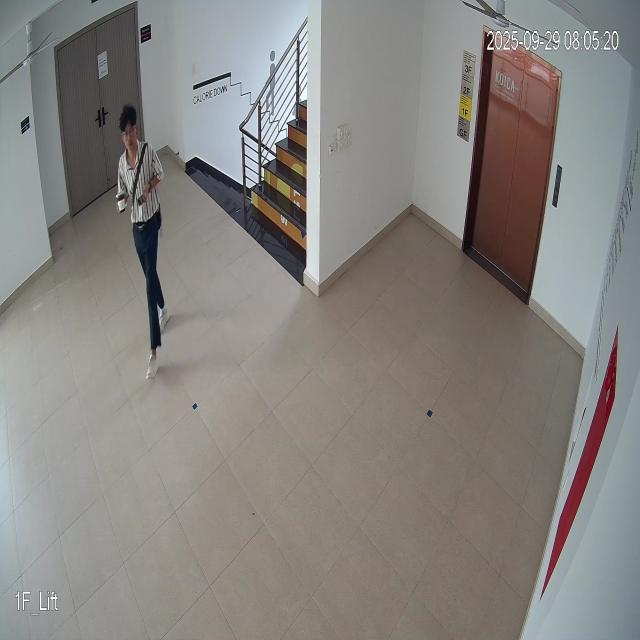face: (115, 103, 142, 159)
